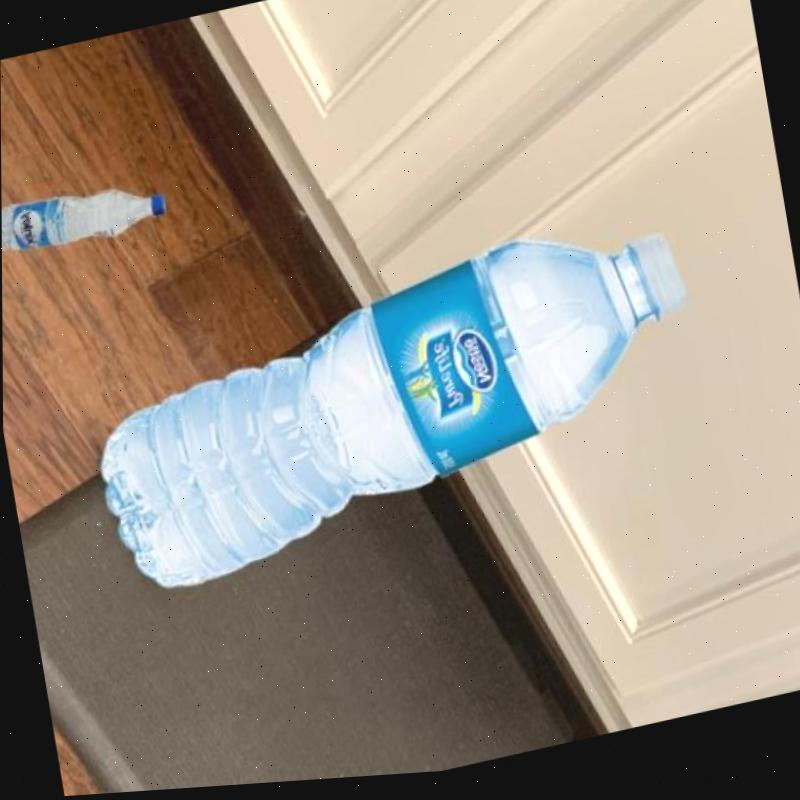botella: (72, 207, 716, 607), (1, 167, 173, 264)
